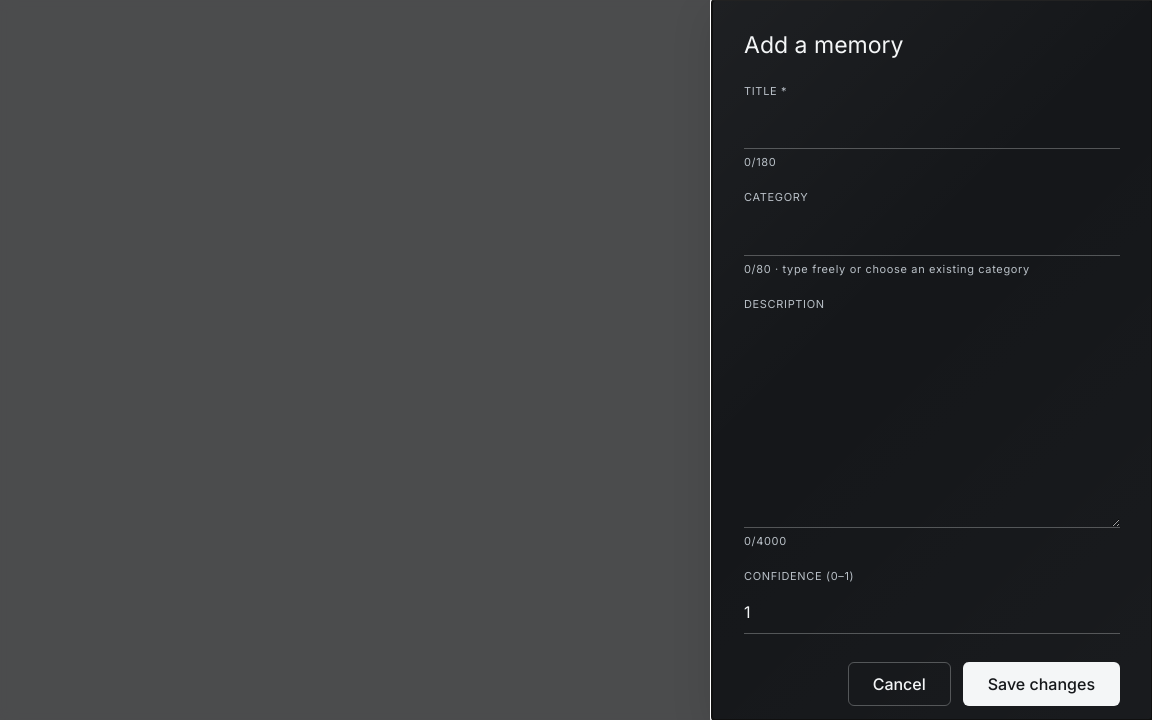
Test: MemoryEditDialog › the live character count updates as the real server-schema-mirroring limit approaches, not a static label
Step 1. Type "A new memory title" into the field labelled "Title *" → (932, 127), box x1=744 y1=105 x2=1120 y2=149
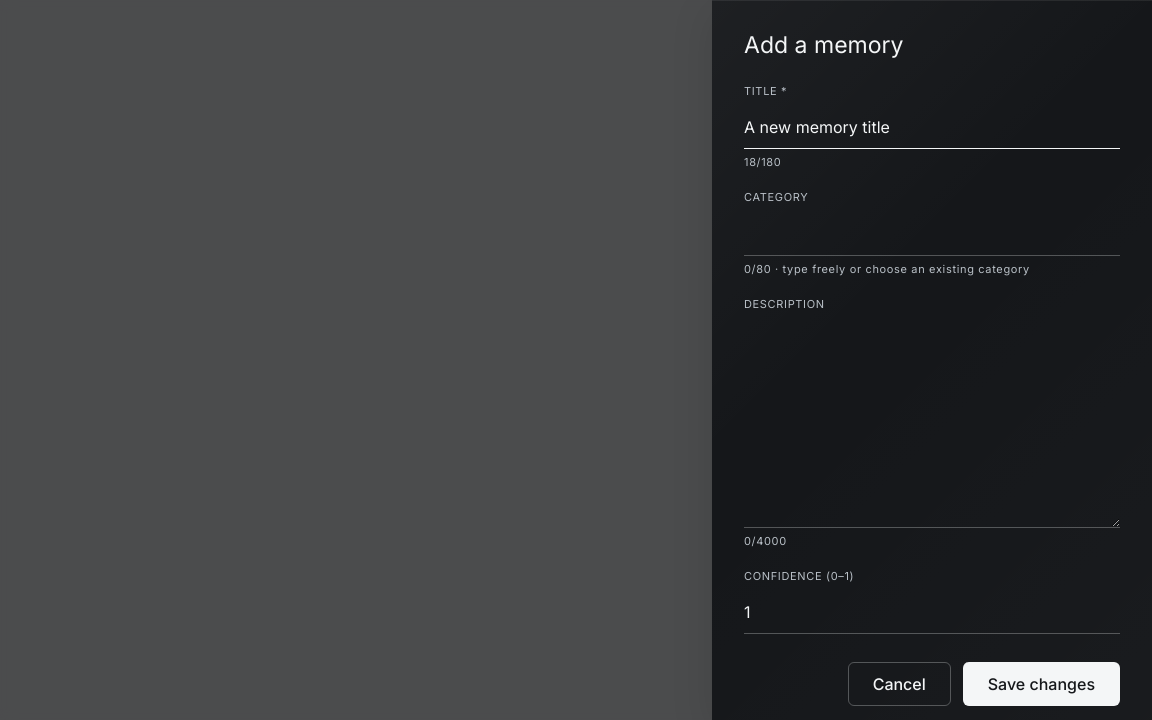
Expected: the text "18/180" is shown, x1=744 y1=155 x2=781 y2=169
